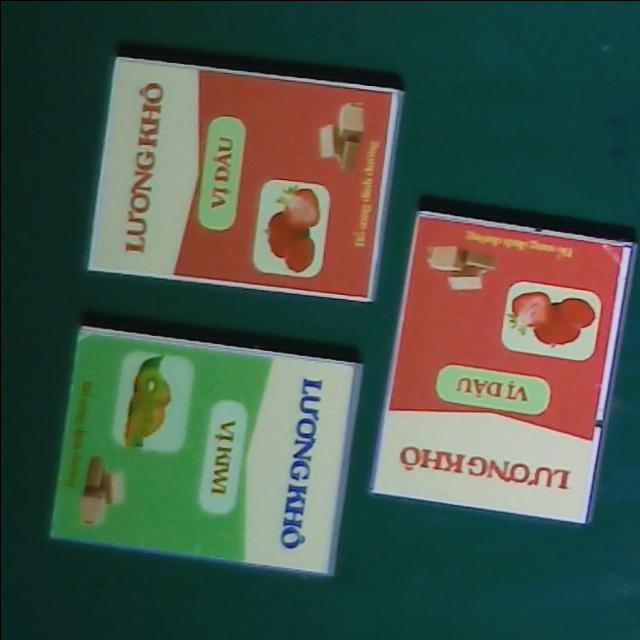dau: (368, 203, 636, 529), (88, 55, 402, 302)
kiwi: (48, 327, 360, 576)
